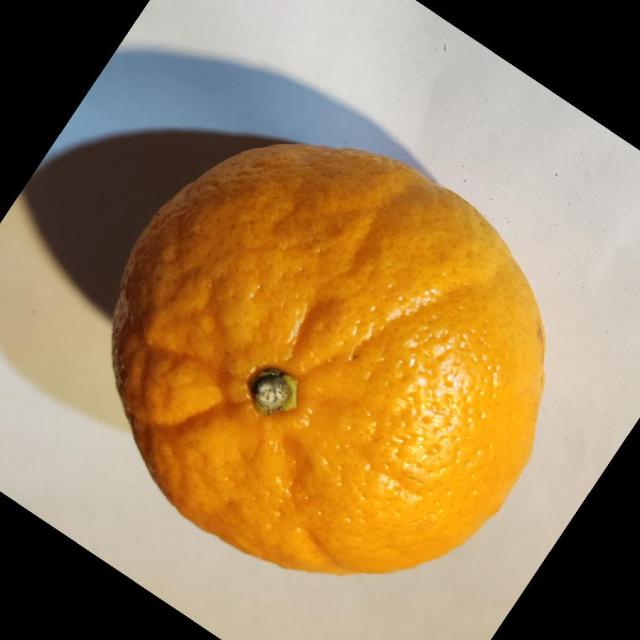fresh orange: (110, 142, 546, 576)
